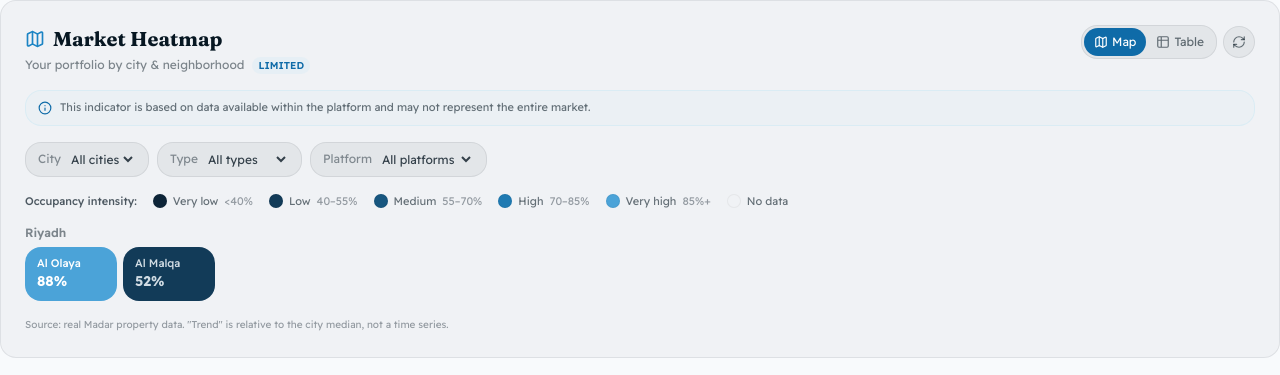
Scenario: own-portfolio heatmap (Growth) renders real cells › has a table view for accessibility
This screenshot has width=1280, height=375.
Check: the button with aria-label "Al Olaya, Riyadh" is shown, box [25,247,117,301]
Click the button "Table": coordinates (1180, 42) [1146,28,1214,56]
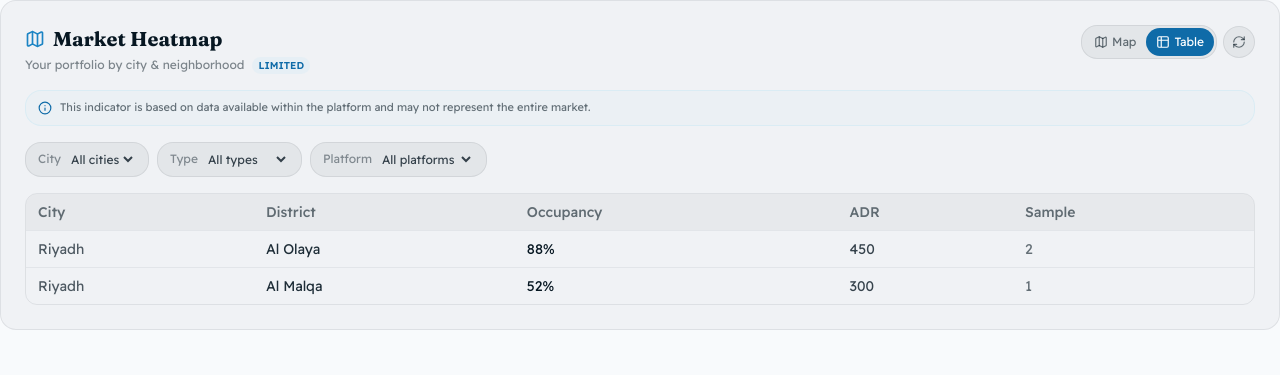
Check: the text "Al Olaya" is shown, box [254,230,515,267]
Check: the table is shown, box [26,194,1254,304]
